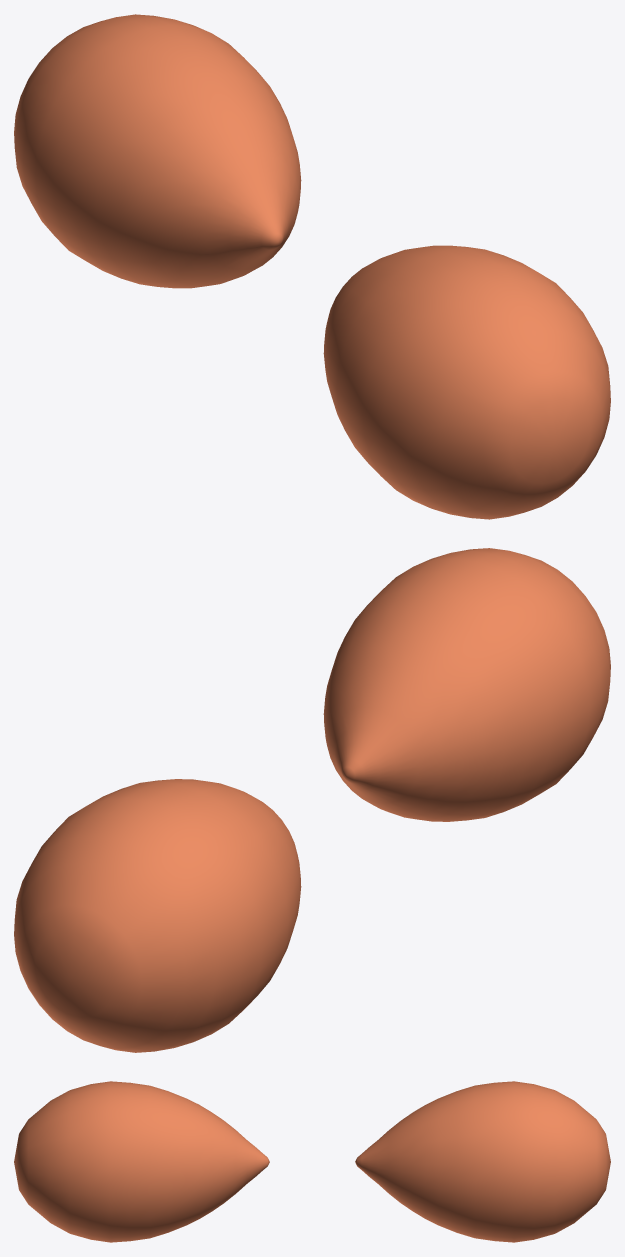
The picture shows the model from 3 angles, top to bottom: view 1: azimuth 30°, elevation 25°; view 2: azimuth 150°, elevation 25°; view 3: azimuth 270°, elevation 25°; orthographic projection. The views are drawn at different scales.
Parts seen in each view (by area): view 1: orbital 1, orbital 2; view 2: orbital 1, orbital 2; view 3: orbital 1, orbital 2.
Part boxes in pixels (<box>): orbital 1: <box>323,245,610,519</box>; orbital 2: <box>14,14,301,288</box>; orbital 1: <box>323,548,610,821</box>; orbital 2: <box>14,779,301,1052</box>; orbital 1: <box>14,1081,269,1242</box>; orbital 2: <box>355,1081,610,1242</box>.
Size of the model in its own units: 0.7999 by 0.8 by 2.96.
